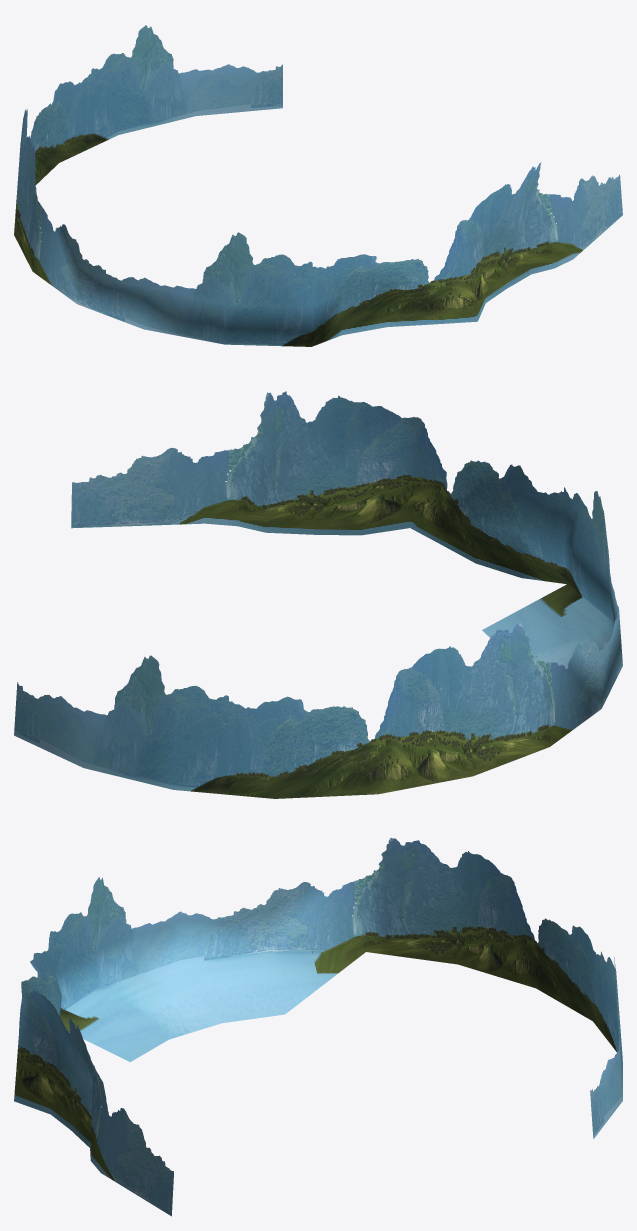
The model's file is Bf01g_hill_far.fbx.
3 views of the same model, one above another, from view 1: azimuth 30°, elevation 25°; view 2: azimuth 150°, elevation 25°; view 3: azimuth 270°, elevation 25° (orthographic). The views are drawn at different scales.
Parts seen in each view (by area): view 1: ff:PP2_bf01_far; view 2: ff:PP2_bf01_far; view 3: ff:PP2_bf01_far.
Boxes of the visible parts, <box> form: ff:PP2_bf01_far: <box>14,25,622,346</box>; ff:PP2_bf01_far: <box>14,391,622,798</box>; ff:PP2_bf01_far: <box>14,838,622,1216</box>.
Bounding box in the file's own units: 99636 × 28457 × 96919.
Materials: 1 (1 with a texture image).
